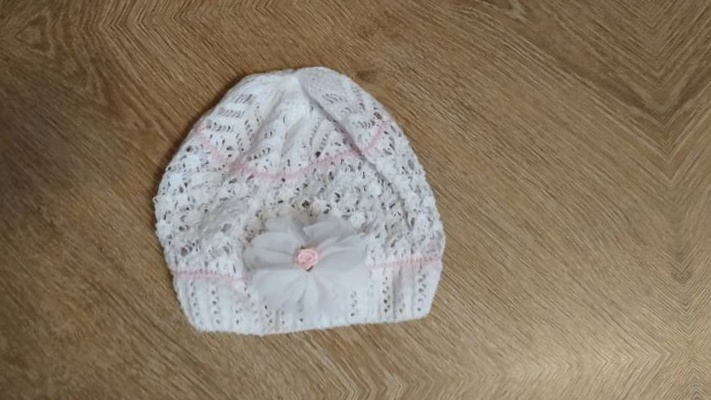Hat: (114, 22, 507, 366)
